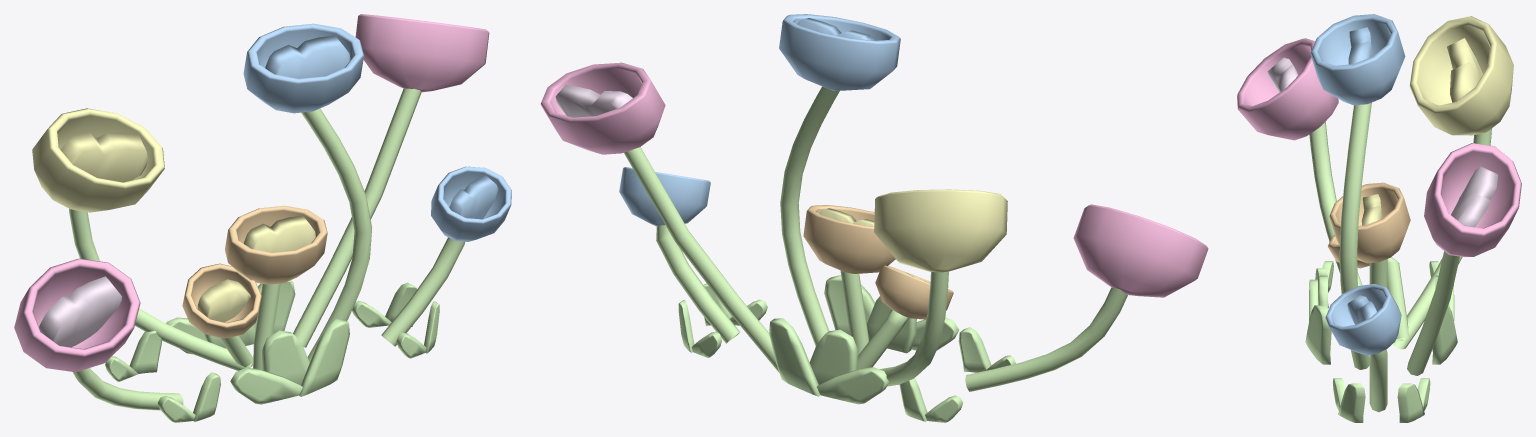
File: Flower6_UV.fbx
3 views of the same model, side by side, from view 1: azimuth 30°, elevation 25°; view 2: azimuth 150°, elevation 25°; view 3: azimuth 270°, elevation 25° (orthographic). The views are drawn at different scales.
Visible parts, largest first — view 1: Flower6_UV; view 2: Flower6_UV; view 3: Flower6_UV.
Boxes of the visible parts, box(x1,y1,x2,y2) form: Flower6_UV: box(14, 14, 511, 422); Flower6_UV: box(540, 14, 1208, 422); Flower6_UV: box(1237, 14, 1521, 422).
Bounding box in the file's own units: 2.43 × 1.42 × 1.09.
